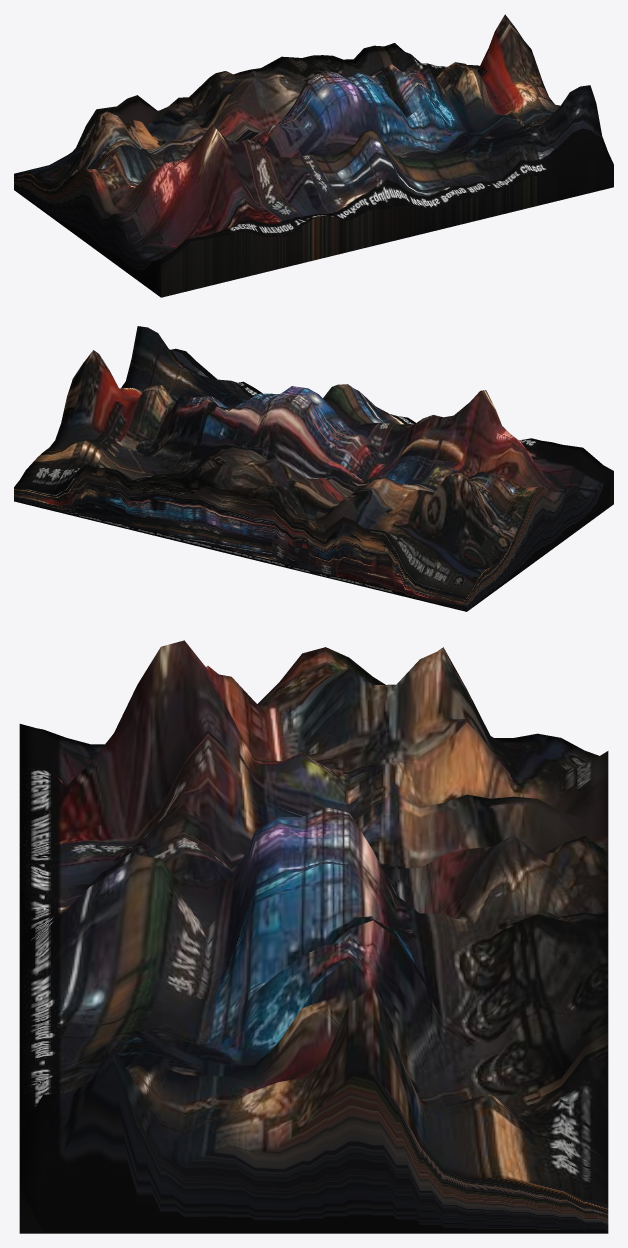
Rendered from SPECIAL_INT_17_Gym.glb.
The picture shows the model from 3 angles, top to bottom: view 1: azimuth 30°, elevation 25°; view 2: azimuth 150°, elevation 25°; view 3: azimuth 270°, elevation 25°; orthographic projection. The views are drawn at different scales.
Parts seen in each view (by area): view 1: SPECIAL_INT_17_Gym; view 2: SPECIAL_INT_17_Gym; view 3: SPECIAL_INT_17_Gym.
Part boxes in pixels (x1,y1,x2,y2): SPECIAL_INT_17_Gym: (14,14,613,297); SPECIAL_INT_17_Gym: (14,326,613,611); SPECIAL_INT_17_Gym: (19,640,608,1233).
Size of the model in its own units: 2 by 0.51 by 1.13.
Materials: 1 (1 with a texture image).
